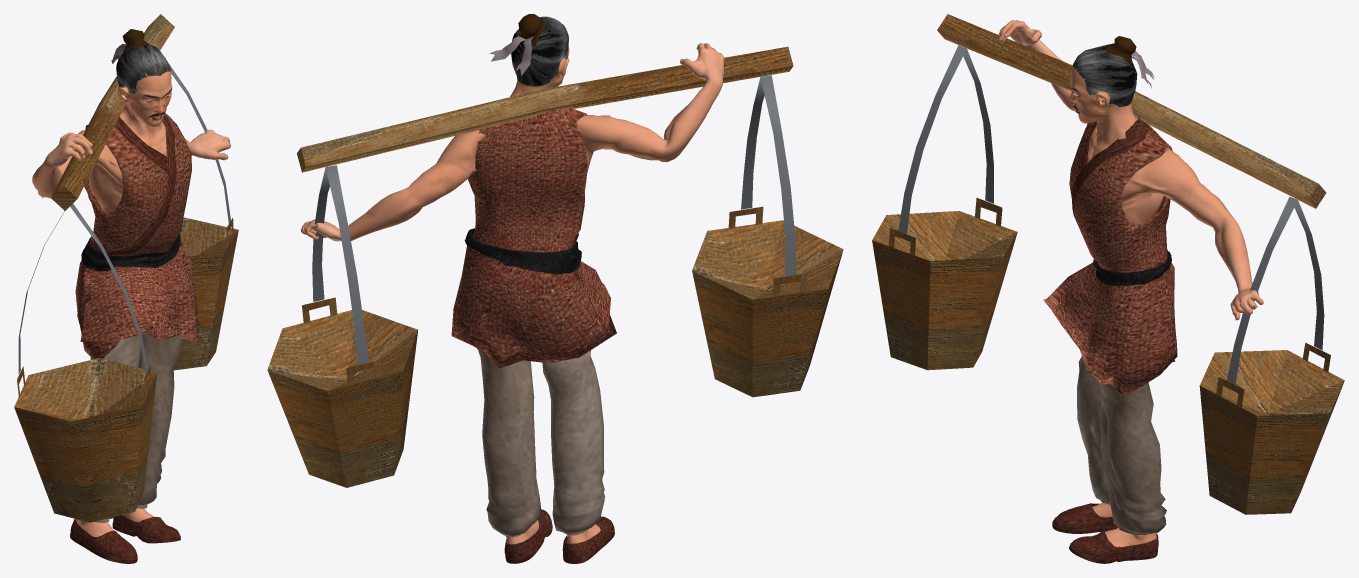
The picture shows the model from 3 angles, left to right: view 1: azimuth 30°, elevation 25°; view 2: azimuth 150°, elevation 25°; view 3: azimuth 270°, elevation 25°; orthographic projection. The views are drawn at different scales.
Parts seen in each view (by area): view 1: 古代人074ok; view 2: 古代人074ok; view 3: 古代人074ok.
Boxes of the visible parts, left/top/right/bottom form: 古代人074ok: left=14, top=14, right=238, bottom=563; 古代人074ok: left=267, top=14, right=843, bottom=563; 古代人074ok: left=872, top=14, right=1344, bottom=563.
Bounding box in the file's own units: 138 × 180 × 149.
4 materials, 3 textured.
